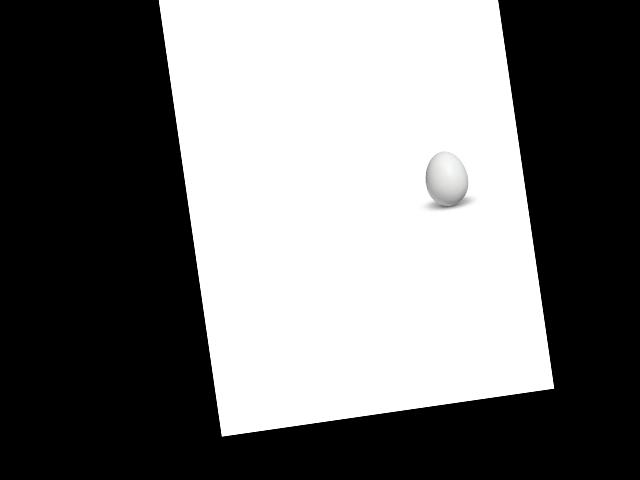egg: (422, 148, 471, 208)
